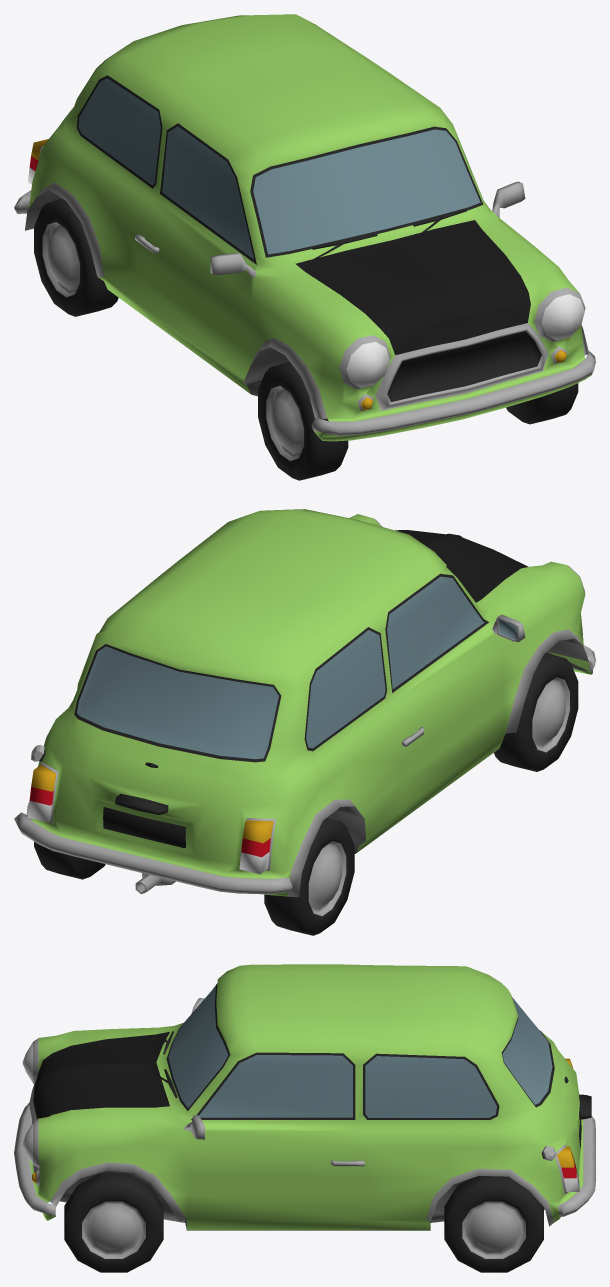
Rendered from mini-classic.glb.
The picture shows the model from 3 angles, top to bottom: view 1: azimuth 30°, elevation 25°; view 2: azimuth 150°, elevation 25°; view 3: azimuth 270°, elevation 25°; orthographic projection. The views are drawn at different scales.
Visible parts, largest first — view 1: Plane; view 2: Plane; view 3: Plane.
Boxes of the visible parts, <box> form: Plane: <box>14,14,595,480</box>; Plane: <box>14,509,595,935</box>; Plane: <box>14,964,595,1272</box>.
Bounding box in the file's own units: 1.6 × 1.33 × 3.05.
